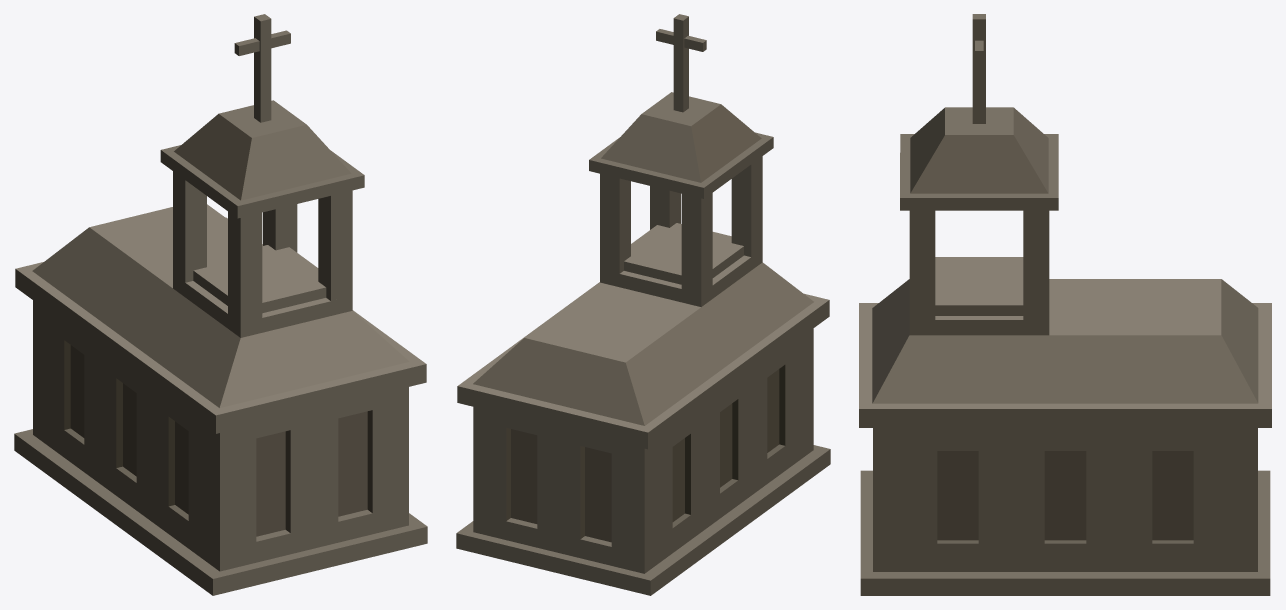
The model's file is SF_Bld_Undead_Crypt_02.fbx.
3 views of the same model, side by side, from view 1: azimuth 30°, elevation 25°; view 2: azimuth 150°, elevation 25°; view 3: azimuth 270°, elevation 25° (orthographic). The views are drawn at different scales.
Parts seen in each view (by area): view 1: SF_Bld_Undead_Crypt_02; view 2: SF_Bld_Undead_Crypt_02; view 3: SF_Bld_Undead_Crypt_02.
Part boxes in pixels (<box>): SF_Bld_Undead_Crypt_02: <box>14,14,427,595</box>; SF_Bld_Undead_Crypt_02: <box>456,14,830,595</box>; SF_Bld_Undead_Crypt_02: <box>859,14,1271,595</box>.
Size of the model in its own units: 4.33 by 9.82 by 7.
